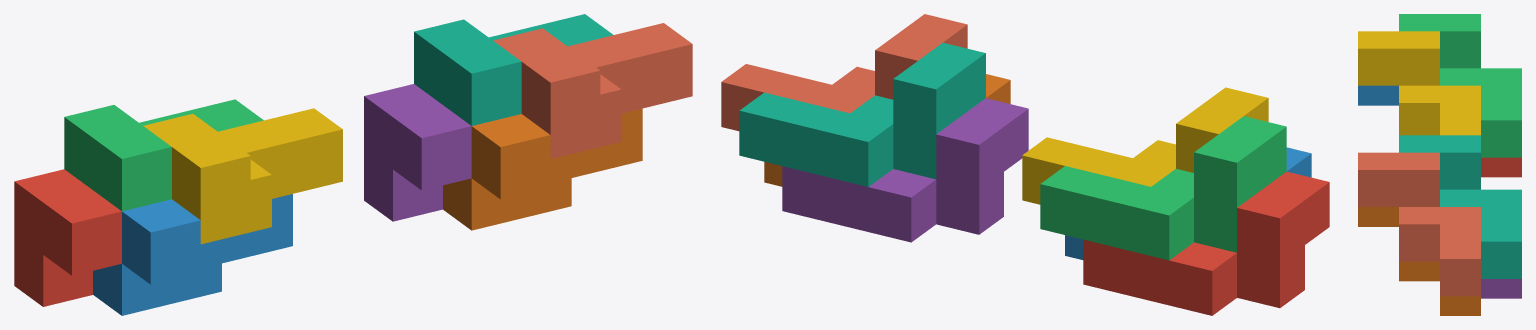
File: tiling.obj
3 views of the same model, side by side, from view 1: azimuth 30°, elevation 25°; view 2: azimuth 150°, elevation 25°; view 3: azimuth 270°, elevation 25° (orthographic). The views are drawn at different scales.
Visible parts, largest first — view 1: copy_1_domain_8, copy_1_domain_4, copy_1_domain_6, copy_1_domain_2, copy_1_domain_1, copy_1_domain_5, copy_1_domain_7, copy_1_domain_3; view 2: copy_1_domain_7, copy_1_domain_3, copy_1_domain_1, copy_1_domain_5, copy_1_domain_8, copy_1_domain_4, copy_1_domain_2, copy_1_domain_6; view 3: copy_1_domain_8, copy_1_domain_4, copy_1_domain_3, copy_1_domain_7, copy_1_domain_6, copy_1_domain_1, copy_1_domain_2, copy_1_domain_5.
Part boxes in pixels (<box>): copy_1_domain_8: <box>493,23,692,158</box>; copy_1_domain_4: <box>143,108,342,244</box>; copy_1_domain_6: <box>443,108,642,230</box>; copy_1_domain_2: <box>93,194,292,315</box>; copy_1_domain_1: <box>14,169,121,306</box>; copy_1_domain_5: <box>364,84,471,221</box>; copy_1_domain_7: <box>414,14,613,125</box>; copy_1_domain_3: <box>64,99,263,211</box>; copy_1_domain_7: <box>739,42,985,186</box>; copy_1_domain_3: <box>1040,116,1286,260</box>; copy_1_domain_1: <box>1083,171,1329,315</box>; copy_1_domain_5: <box>782,98,1028,242</box>; copy_1_domain_8: <box>721,14,967,131</box>; copy_1_domain_4: <box>1022,87,1268,204</box>; copy_1_domain_2: <box>1065,147,1311,259</box>; copy_1_domain_6: <box>764,74,1010,186</box>; copy_1_domain_8: <box>1358,152,1480,296</box>; copy_1_domain_4: <box>1358,31,1480,135</box>; copy_1_domain_3: <box>1399,14,1521,157</box>; copy_1_domain_7: <box>1399,135,1521,278</box>; copy_1_domain_6: <box>1358,207,1480,315</box>; copy_1_domain_1: <box>1481,157,1521,177</box>; copy_1_domain_2: <box>1358,85,1398,105</box>; copy_1_domain_5: <box>1481,279,1521,298</box>.
Size of the model in its own units: 13 by 3 by 4.
